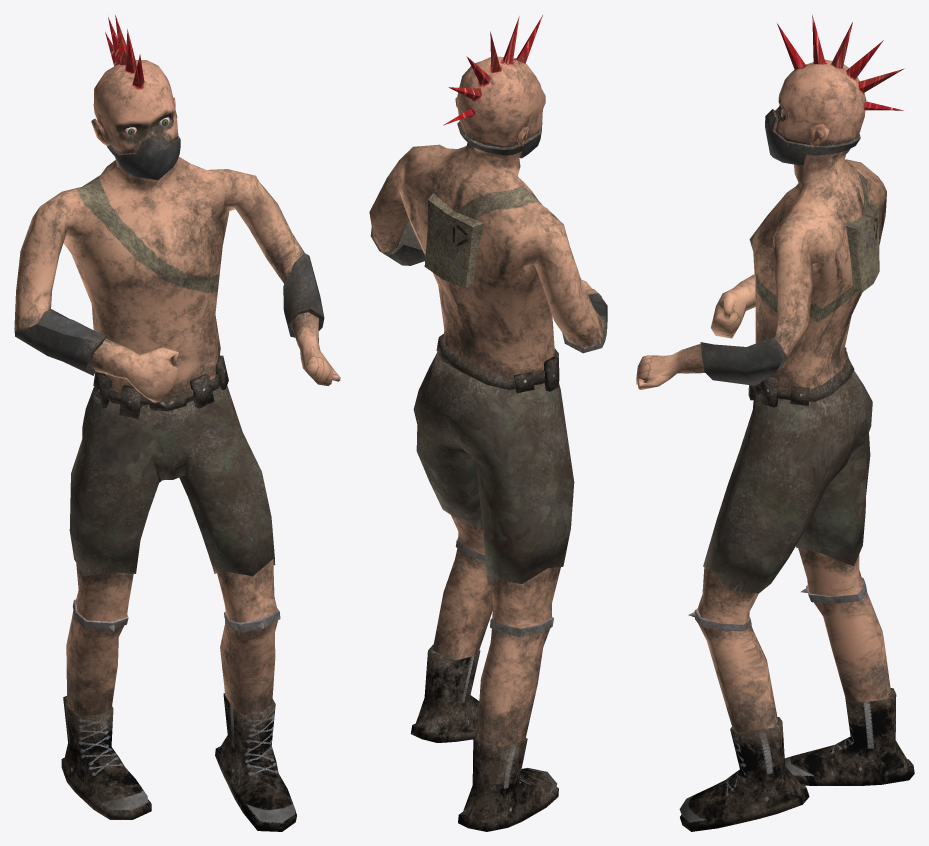
The model's file is Anim_disparar_ametralladora_npc2.0020.obj.
The picture shows the model from 3 angles, left to right: view 1: azimuth 30°, elevation 25°; view 2: azimuth 150°, elevation 25°; view 3: azimuth 270°, elevation 25°; orthographic projection.
Parts seen in each view (by area): view 1: polySurface1; view 2: polySurface1; view 3: polySurface1.
Boxes of the visible parts, x1=… form: polySurface1: x1=14, y1=15, x2=340, y2=831; polySurface1: x1=369, y1=15, x2=607, y2=831; polySurface1: x1=636, y1=14, x2=914, y2=831.
Bounding box in the file's own units: 3.57 × 10.16 × 3.34.
Materials: 2 (2 with a texture image).
